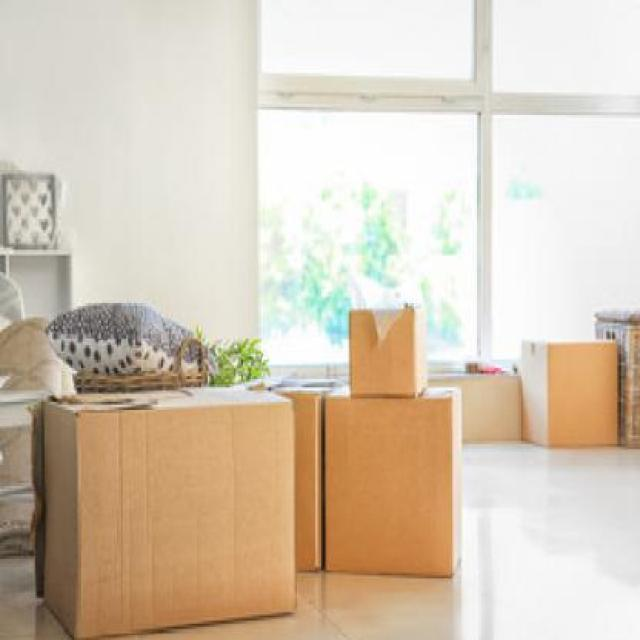box: (32, 384, 317, 640), (326, 388, 469, 618), (516, 320, 627, 464), (261, 352, 325, 578), (333, 298, 435, 420), (452, 356, 522, 456)
